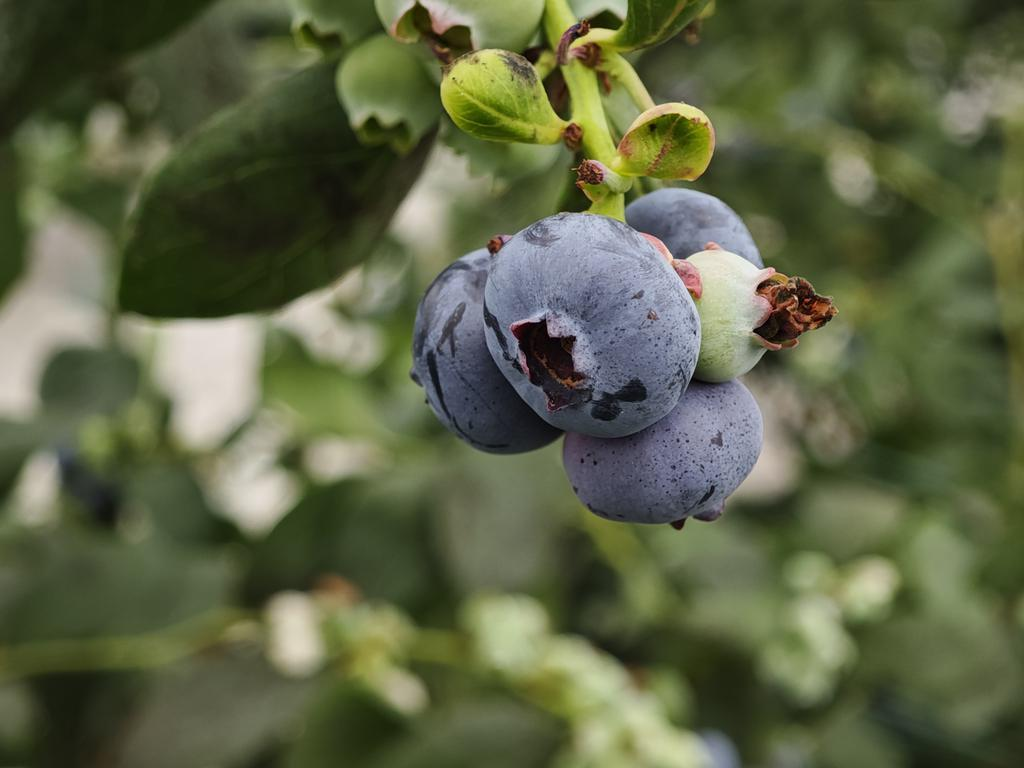RipeBlueBerry: (483, 213, 703, 438)
